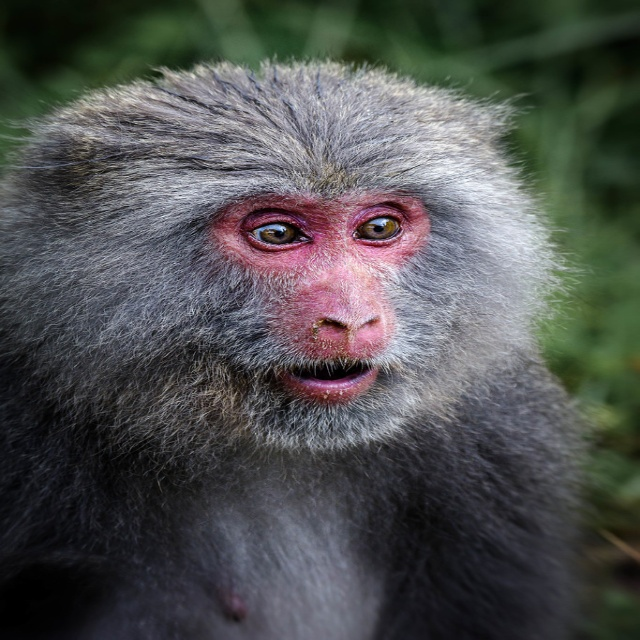Monkey: (0, 44, 606, 640)
